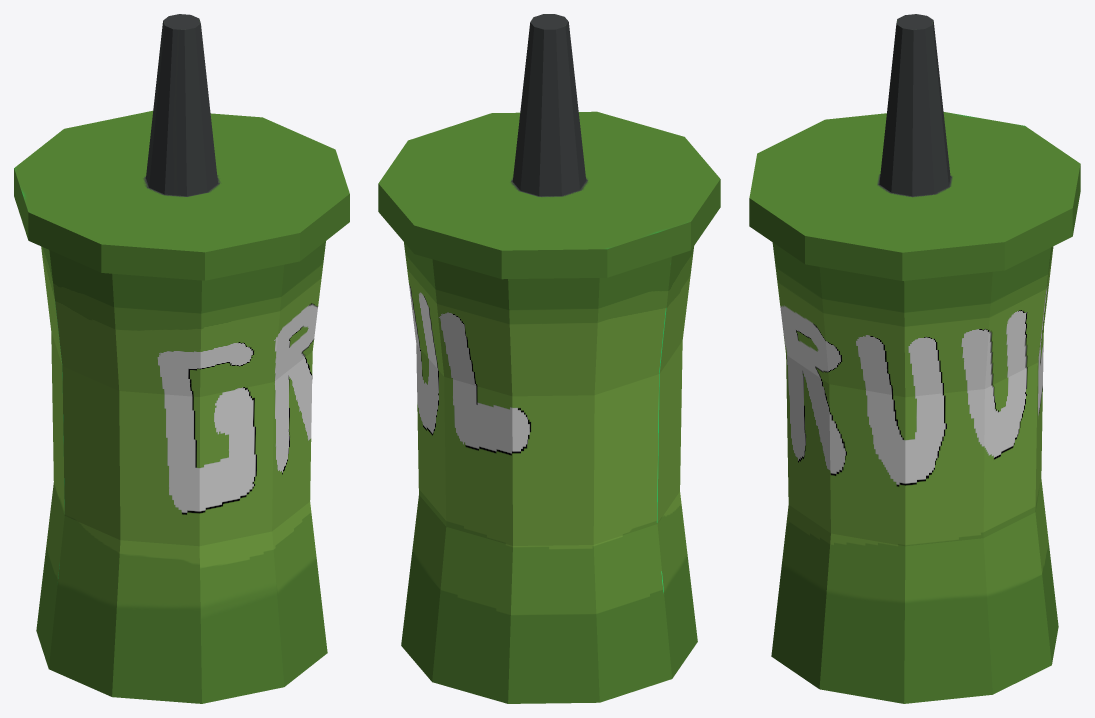
The model's file is Gruul 1.fbx.
3 views of the same model, side by side, from view 1: azimuth 30°, elevation 25°; view 2: azimuth 150°, elevation 25°; view 3: azimuth 270°, elevation 25° (orthographic).
Visible parts, largest first — view 1: Cylinder; view 2: Cylinder; view 3: Cylinder.
Part boxes in pixels (bbox=[...]): Cylinder: bbox=[14, 14, 349, 703]; Cylinder: bbox=[378, 14, 720, 703]; Cylinder: bbox=[749, 14, 1080, 703].
Bounding box in the file's own units: 13.79 × 27.73 × 13.43.
